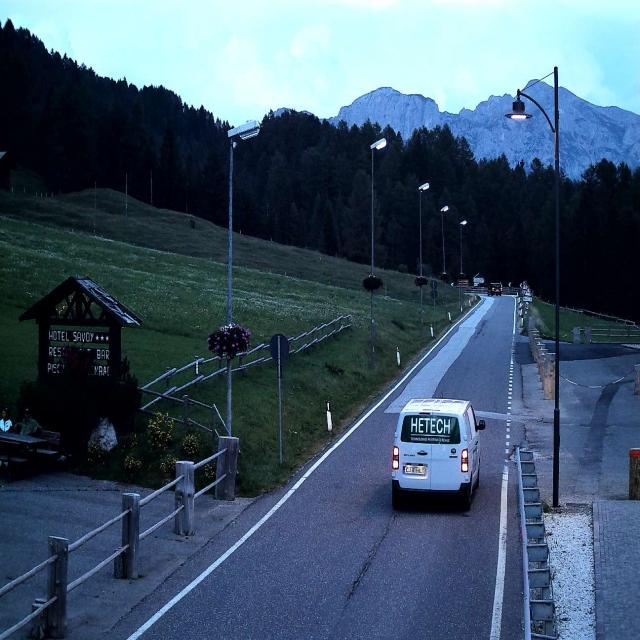car: (390, 396, 486, 510)
